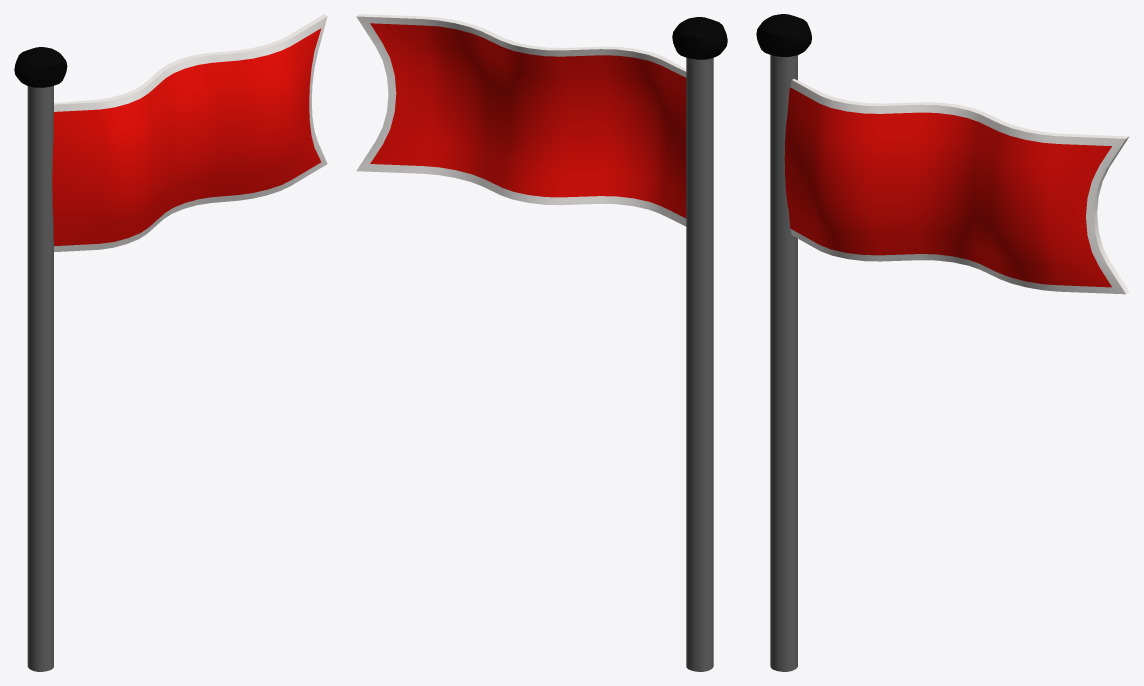
The model's file is flah.fbx.
The picture shows the model from 3 angles, left to right: view 1: azimuth 30°, elevation 25°; view 2: azimuth 150°, elevation 25°; view 3: azimuth 330°, elevation 25°; orthographic projection. The views are drawn at different scales.
Parts seen in each view (by area): view 1: Cube; view 2: Cube; view 3: Cube.
Part boxes in pixels (x1,y1,x2,y2): Cube: (14,14,327,671); Cube: (356,14,727,671); Cube: (756,14,1129,671).
Size of the model in its own units: 244 by 435 by 54.97.
